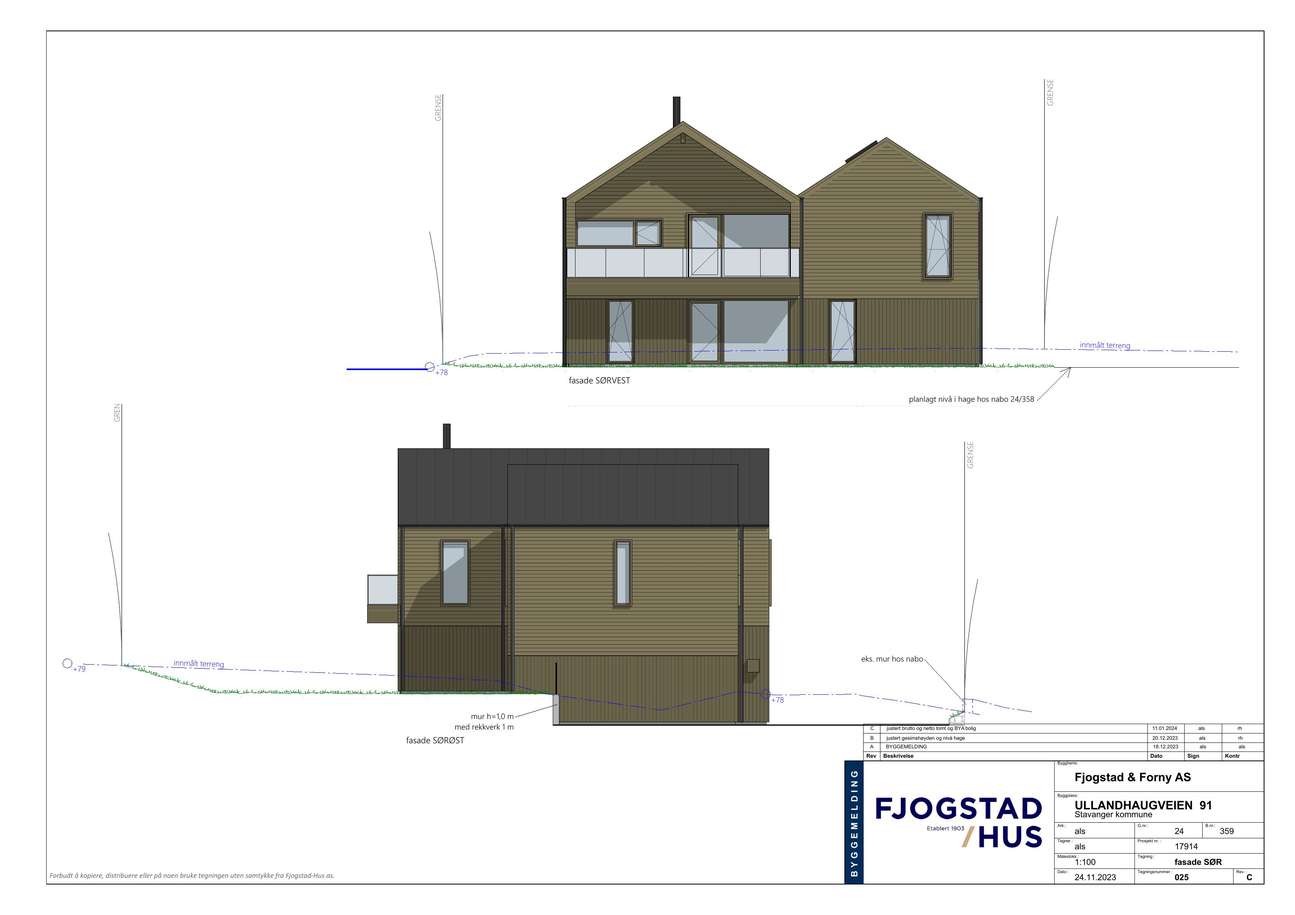fasade: (368, 423, 775, 724), (564, 97, 985, 368)
